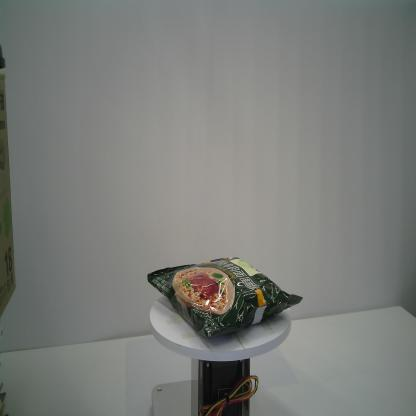Instant Noodles: (145, 253, 305, 344)
